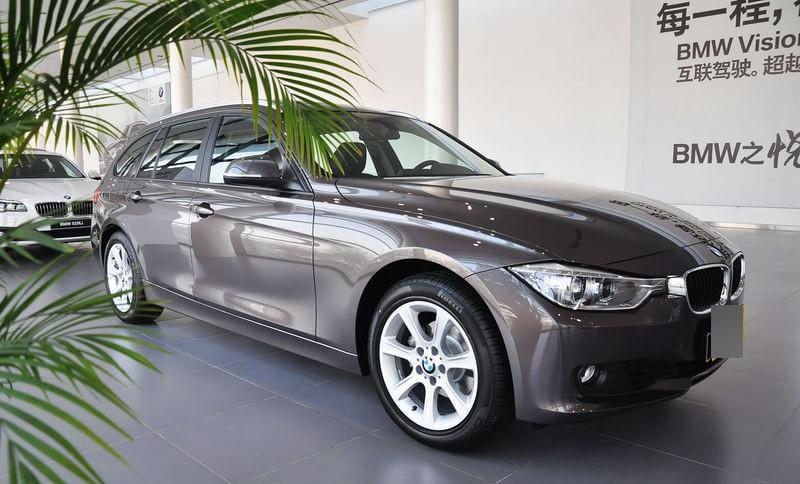Wagon: (90, 96, 747, 453)
